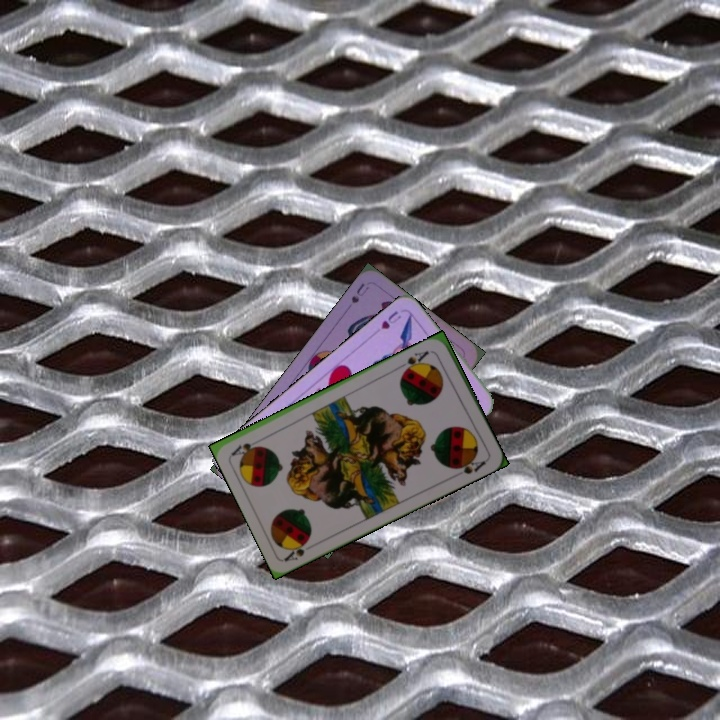HU: (377, 306, 404, 332)
SA: (397, 347, 432, 375), (281, 535, 312, 564)
SU: (347, 279, 371, 306)
